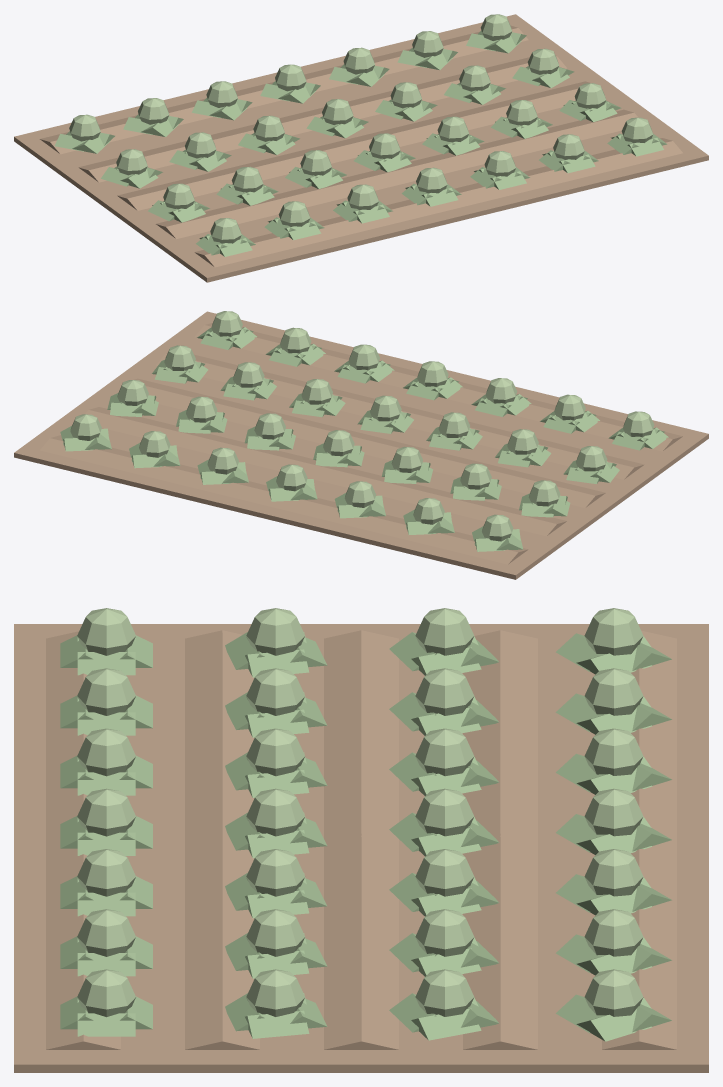
Rendered from field-cabbage.glb.
3 views of the same model, one above another, from view 1: azimuth 30°, elevation 25°; view 2: azimuth 150°, elevation 25°; view 3: azimuth 270°, elevation 25° (orthographic). The views are drawn at different scales.
Visible parts, largest first — view 1: field-cabbage_soil, field-cabbage_leaf, field-cabbage_heart; view 2: field-cabbage_soil, field-cabbage_leaf, field-cabbage_heart; view 3: field-cabbage_soil, field-cabbage_leaf, field-cabbage_heart.
Boxes of the visible parts, x1,y1,x2,y2 form: field-cabbage_soil: [14, 14, 708, 282]; field-cabbage_leaf: [54, 30, 667, 256]; field-cabbage_heart: [69, 14, 653, 243]; field-cabbage_soil: [14, 311, 708, 579]; field-cabbage_leaf: [60, 327, 668, 551]; field-cabbage_heart: [70, 311, 654, 541]; field-cabbage_soil: [14, 624, 708, 1072]; field-cabbage_leaf: [60, 632, 671, 1041]; field-cabbage_heart: [77, 608, 643, 1017].
Size of the model in its own units: 3 by 0.1983 by 2.
